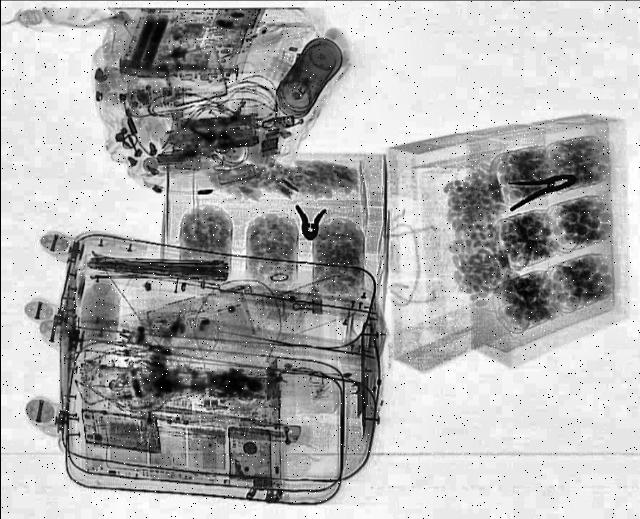Pliers: (495, 165, 583, 213), (290, 205, 324, 241)
